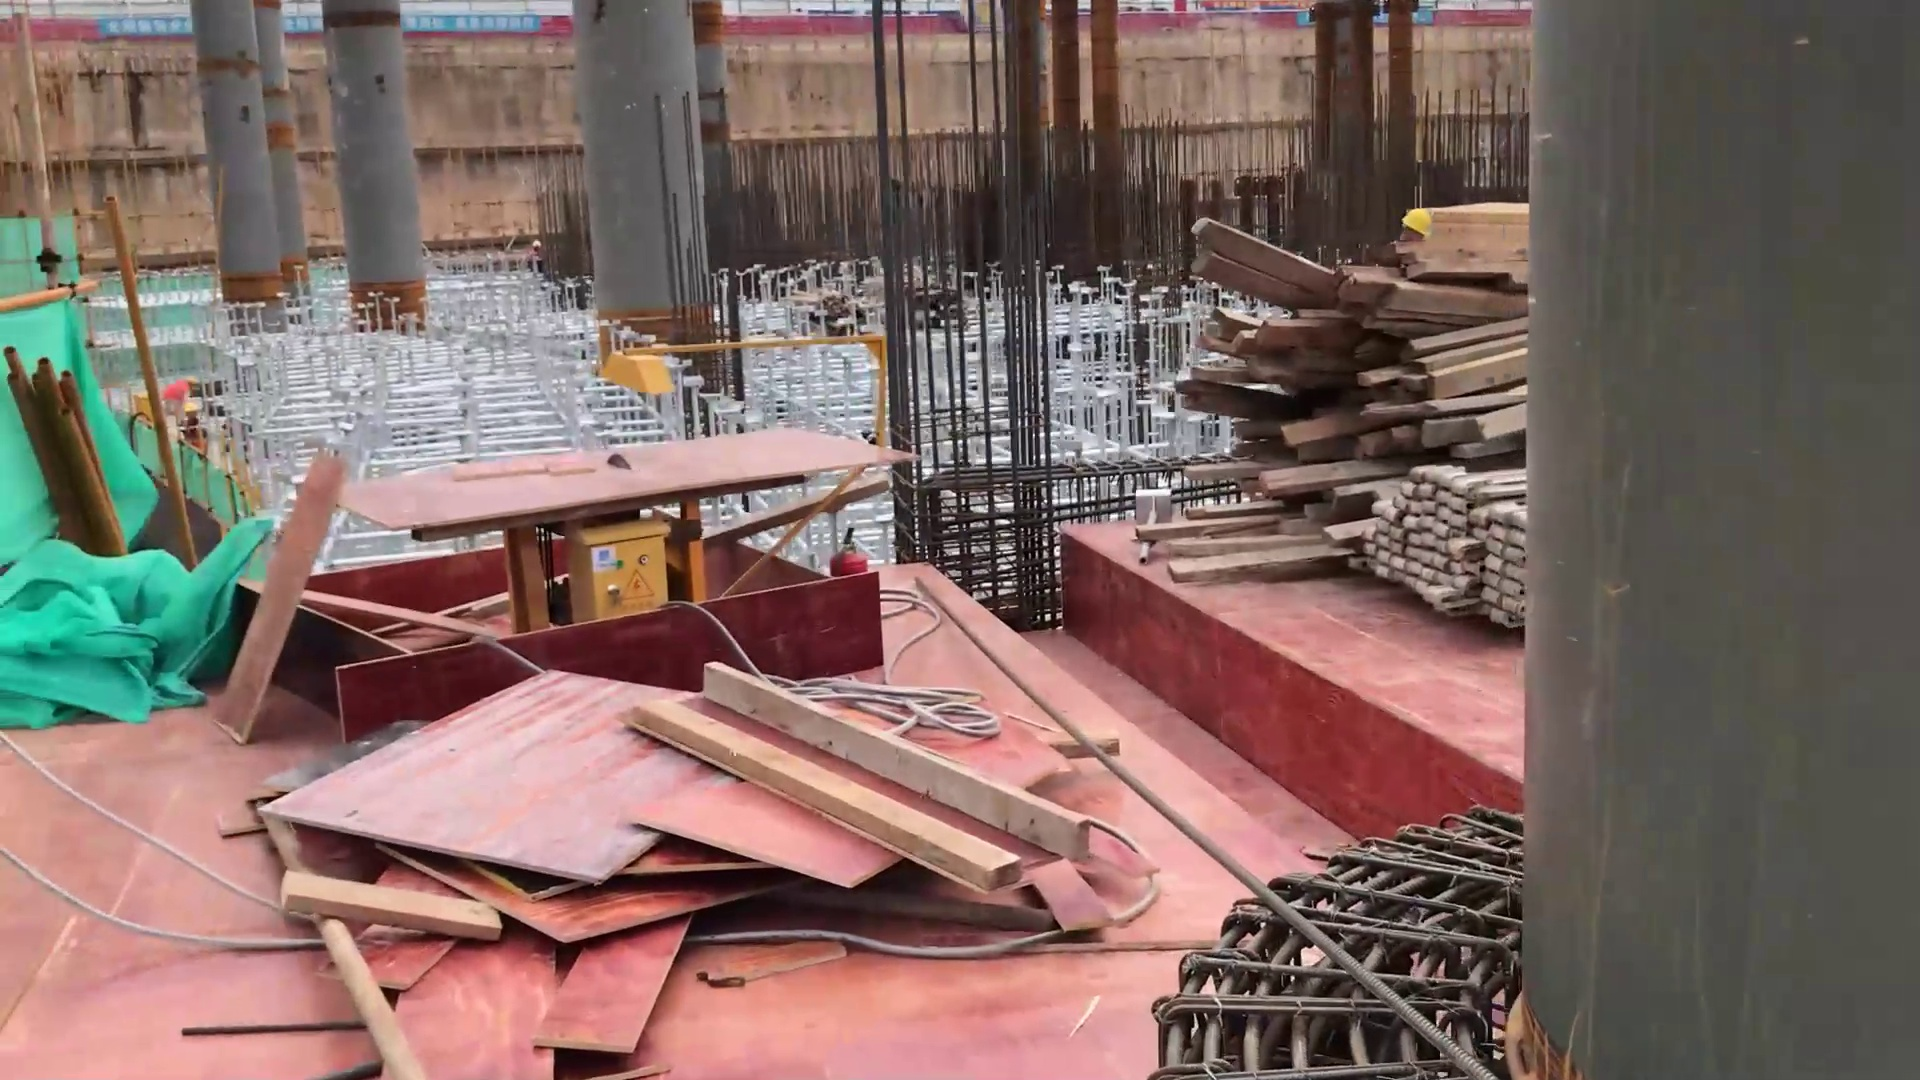cutter: (284, 415, 926, 542)
ebox: (566, 517, 676, 622)
wood: (1182, 199, 1536, 591)
